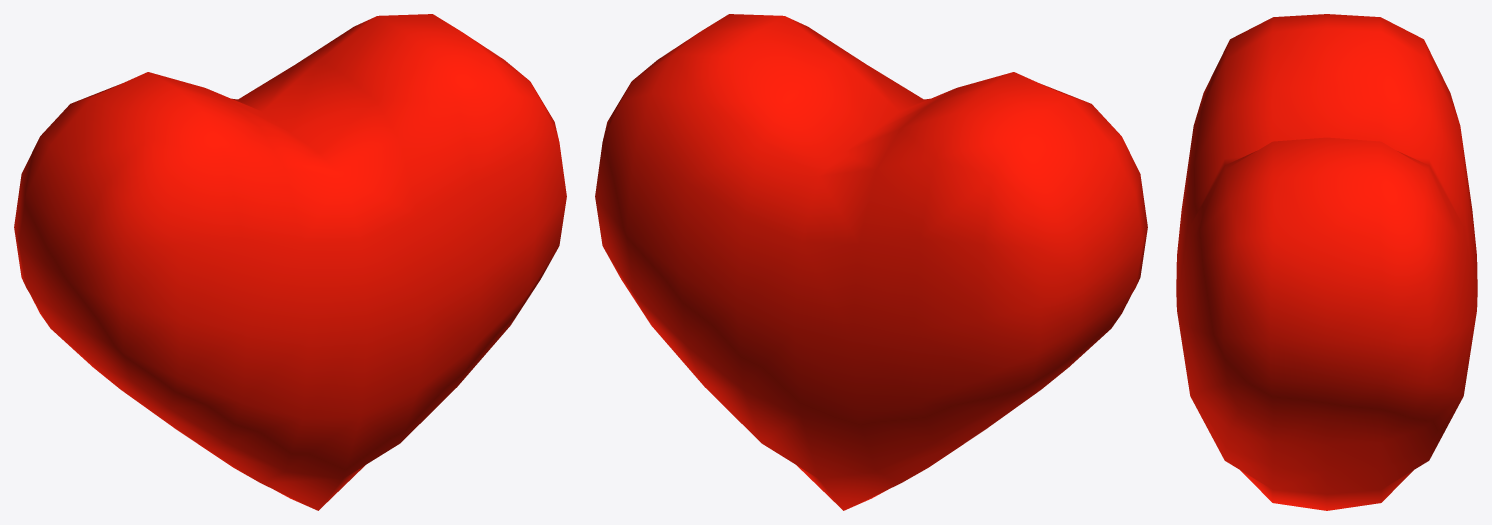
The model's file is hart.obj.
The picture shows the model from 3 angles, left to right: view 1: azimuth 30°, elevation 25°; view 2: azimuth 150°, elevation 25°; view 3: azimuth 270°, elevation 25°; orthographic projection. The views are drawn at different scales.
Parts seen in each view (by area): view 1: hart; view 2: hart; view 3: hart.
Boxes of the visible parts, x1,y1,x2,y2 form: hart: (14,14,566,510); hart: (595,14,1147,510); hart: (1176,14,1477,510).
Bounding box in the file's own units: 0.3845 × 0.3292 × 0.2101.
1 material, 1 textured.
